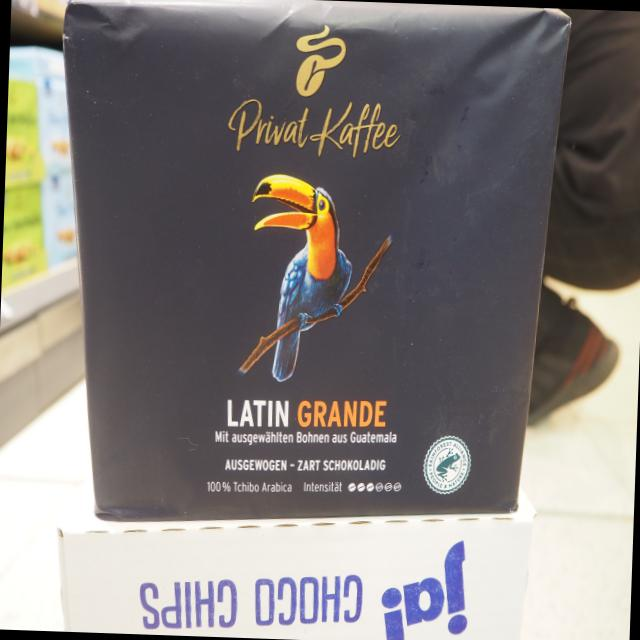LG Gemahlen: (56, 0, 576, 527)
